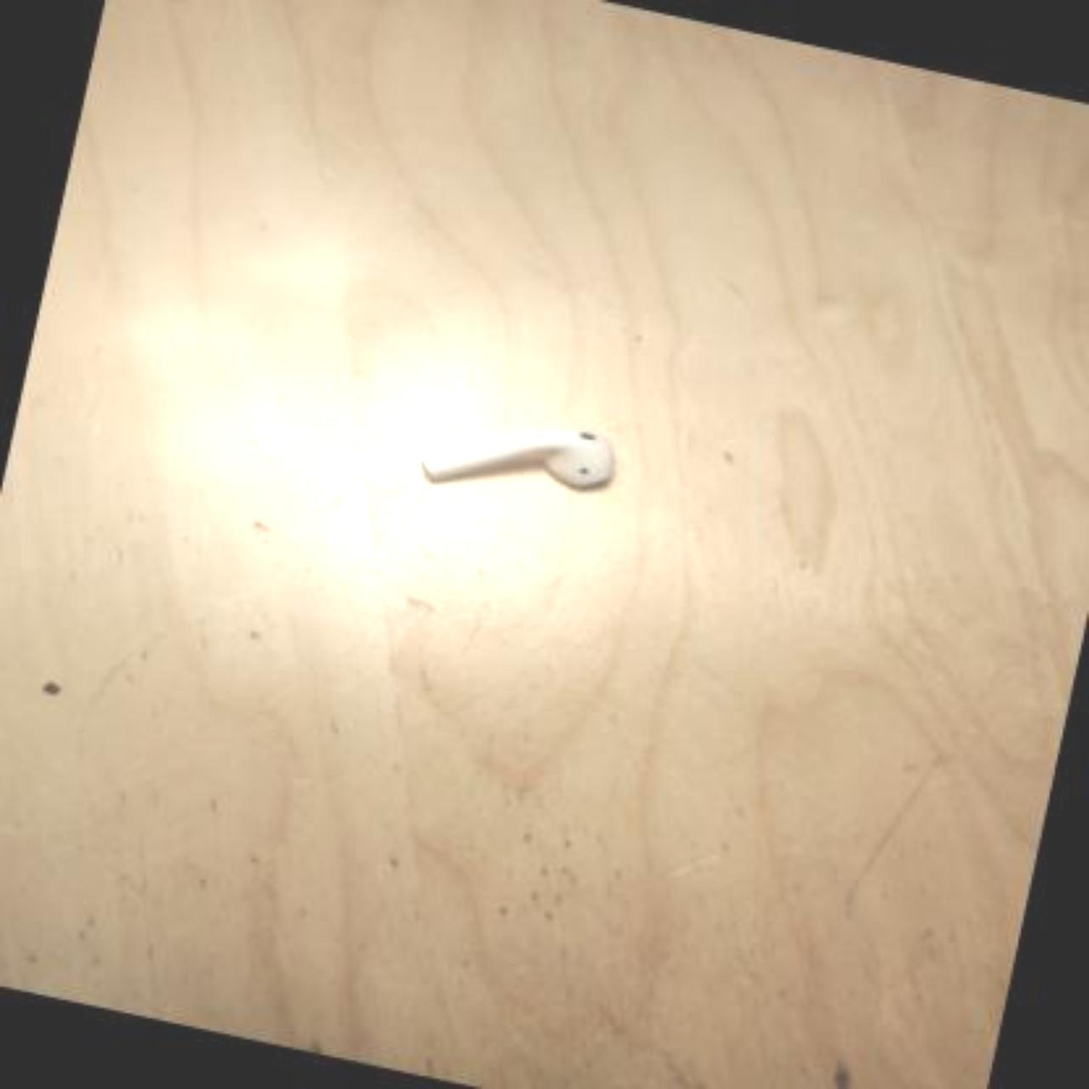Airpods_Units: (407, 393, 629, 521)
